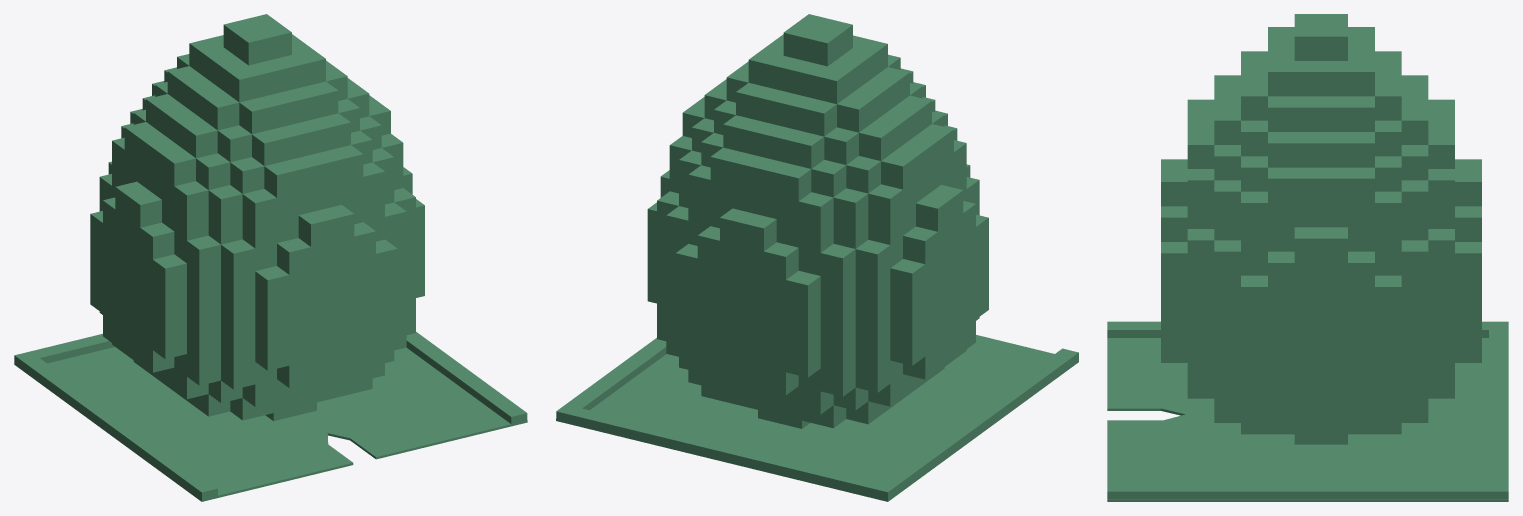
File: Lily_Egg.glb
3 renders of one model, left to right at view 1: azimuth 30°, elevation 25°; view 2: azimuth 150°, elevation 25°; view 3: azimuth 270°, elevation 25°, orthographic. The views are drawn at different scales.
Visible parts, largest first — view 1: Cube_copy_copy_copy_copy_copy_copy_copy_copy_copy_copy_copy_ (×55), Cube_copy_1, Cube_copy_copy_copy_9, Cube_copy_copy_copy_copy_copy_copy_copy_copy_copy, Cube_copy_copy_copy_6, Cube_copy_copy_copy_2, Cube_copy_copy_copy_copy_copy_5, Cube_copy_copy_copy, Cube_copy_4, Cube_copy_copy_copy_copy_copy_copy_copy_copy_1, Cube_copy_copy_copy_copy_copy_8, Cube_copy_copy_copy_copy_7 (+17 smaller); view 2: Cube_copy_copy_copy_copy_copy_copy_copy_copy_copy_copy_copy_ (×59), Cube_copy_copy_4, Cube_copy_copy_copy_copy_copy_copy_copy_25, Cube, Cube_copy_copy_copy_copy_copy_15, Cube_copy_copy_copy_copy_copy_17, Cube_copy_copy_1, Cube_copy_copy_copy_20, Cube_copy_copy_copy_copy_copy_copy_copy_copy_copy_copy_7, Cube_copy_copy_copy_copy_copy_copy_copy_26, Cube_copy_copy_copy_copy_copy_copy_copy_copy_22, Cube_copy_copy_copy_copy_copy_copy_copy_copy_copy_13 (+14 smaller); view 3: Cube_copy_copy_copy_copy_copy_copy_copy_copy_copy_copy_copy_ (×64), Cube_copy_copy_copy_copy_copy_copy_12, Cube_copy_copy_copy_copy_copy_copy_copy_copy_copy_copy_2, Cube_copy_copy_copy_13, Cube_copy_copy_copy_copy_copy_copy_19, Cube_copy_copy_copy_copy_4, Cube_copy_copy_copy_16, Cube_copy_copy_copy_copy_11, Cube_copy_copy_copy_copy_copy_copy_copy_copy_copy_copy_3, Cube_copy_copy_copy_copy_15, Cube_copy_copy_8, Cube_copy_copy_copy_copy_6 (+55 smaller).
Boxes of the visible parts, bbox=[...] form: Cube_copy_copy_copy_copy_copy_copy_copy_copy_copy_copy_copy_ (×55): bbox=[14, 19, 527, 501]; Cube_copy_1: bbox=[140, 222, 174, 259]; Cube_copy_copy_copy_9: bbox=[255, 266, 289, 302]; Cube_copy_copy_copy_copy_copy_copy_copy_copy_copy: bbox=[174, 181, 208, 217]; Cube_copy_copy_copy_6: bbox=[298, 210, 332, 246]; Cube_copy_copy_copy_2: bbox=[153, 254, 186, 291]; Cube_copy_copy_copy_copy_copy_5: bbox=[187, 235, 220, 272]; Cube_copy_copy_copy: bbox=[128, 190, 161, 227]; Cube_copy_4: bbox=[277, 238, 310, 274]; Cube_copy_copy_copy_copy_copy_copy_copy_copy_1: bbox=[174, 209, 208, 240]; Cube_copy_copy_copy_copy_copy_8: bbox=[255, 317, 289, 347]; Cube_copy_copy_copy_copy_7: bbox=[255, 294, 289, 325]; Cube_copy_copy_copy_copy_copy_copy_copy_copy_copy_copy_copy_ (×59): bbox=[556, 19, 1078, 501]; Cube_copy_copy_4: bbox=[890, 259, 925, 296]; Cube_copy_copy_copy_copy_copy_copy_copy_25: bbox=[820, 243, 855, 281]; Cube: bbox=[903, 226, 937, 263]; Cube_copy_copy_copy_copy_copy_15: bbox=[742, 214, 776, 251]; Cube_copy_copy_copy_copy_copy_17: bbox=[786, 271, 820, 308]; Cube_copy_copy_1: bbox=[916, 194, 950, 231]; Cube_copy_copy_copy_20: bbox=[764, 242, 798, 279]; Cube_copy_copy_copy_copy_copy_copy_copy_copy_copy_copy_7: bbox=[820, 364, 855, 396]; Cube_copy_copy_copy_copy_copy_copy_copy_26: bbox=[820, 295, 855, 327]; Cube_copy_copy_copy_copy_copy_copy_copy_copy_22: bbox=[820, 318, 855, 350]; Cube_copy_copy_copy_copy_copy_copy_copy_copy_copy_13: bbox=[820, 341, 855, 373]; Cube_copy_copy_copy_copy_copy_copy_copy_copy_copy_copy_copy_ (×64): bbox=[1107, 25, 1508, 501]; Cube_copy_copy_copy_copy_copy_copy_12: bbox=[1187, 229, 1214, 264]; Cube_copy_copy_copy_copy_copy_copy_copy_copy_copy_copy_2: bbox=[1187, 169, 1214, 204]; Cube_copy_copy_copy_13: bbox=[1294, 227, 1321, 262]; Cube_copy_copy_copy_copy_copy_copy_19: bbox=[1401, 240, 1428, 275]; Cube_copy_copy_copy_copy_4: bbox=[1161, 170, 1187, 206]; Cube_copy_copy_copy_16: bbox=[1241, 275, 1267, 311]; Cube_copy_copy_copy_copy_11: bbox=[1375, 275, 1401, 311]; Cube_copy_copy_copy_copy_copy_copy_copy_copy_copy_copy_3: bbox=[1375, 191, 1401, 227]; Cube_copy_copy_copy_copy_15: bbox=[1455, 170, 1481, 206]; Cube_copy_copy_8: bbox=[1161, 206, 1187, 241]; Cube_copy_copy_copy_copy_6: bbox=[1161, 242, 1187, 277].
Bounding box in the file's own units: 1.5 × 1.6 × 1.5.
